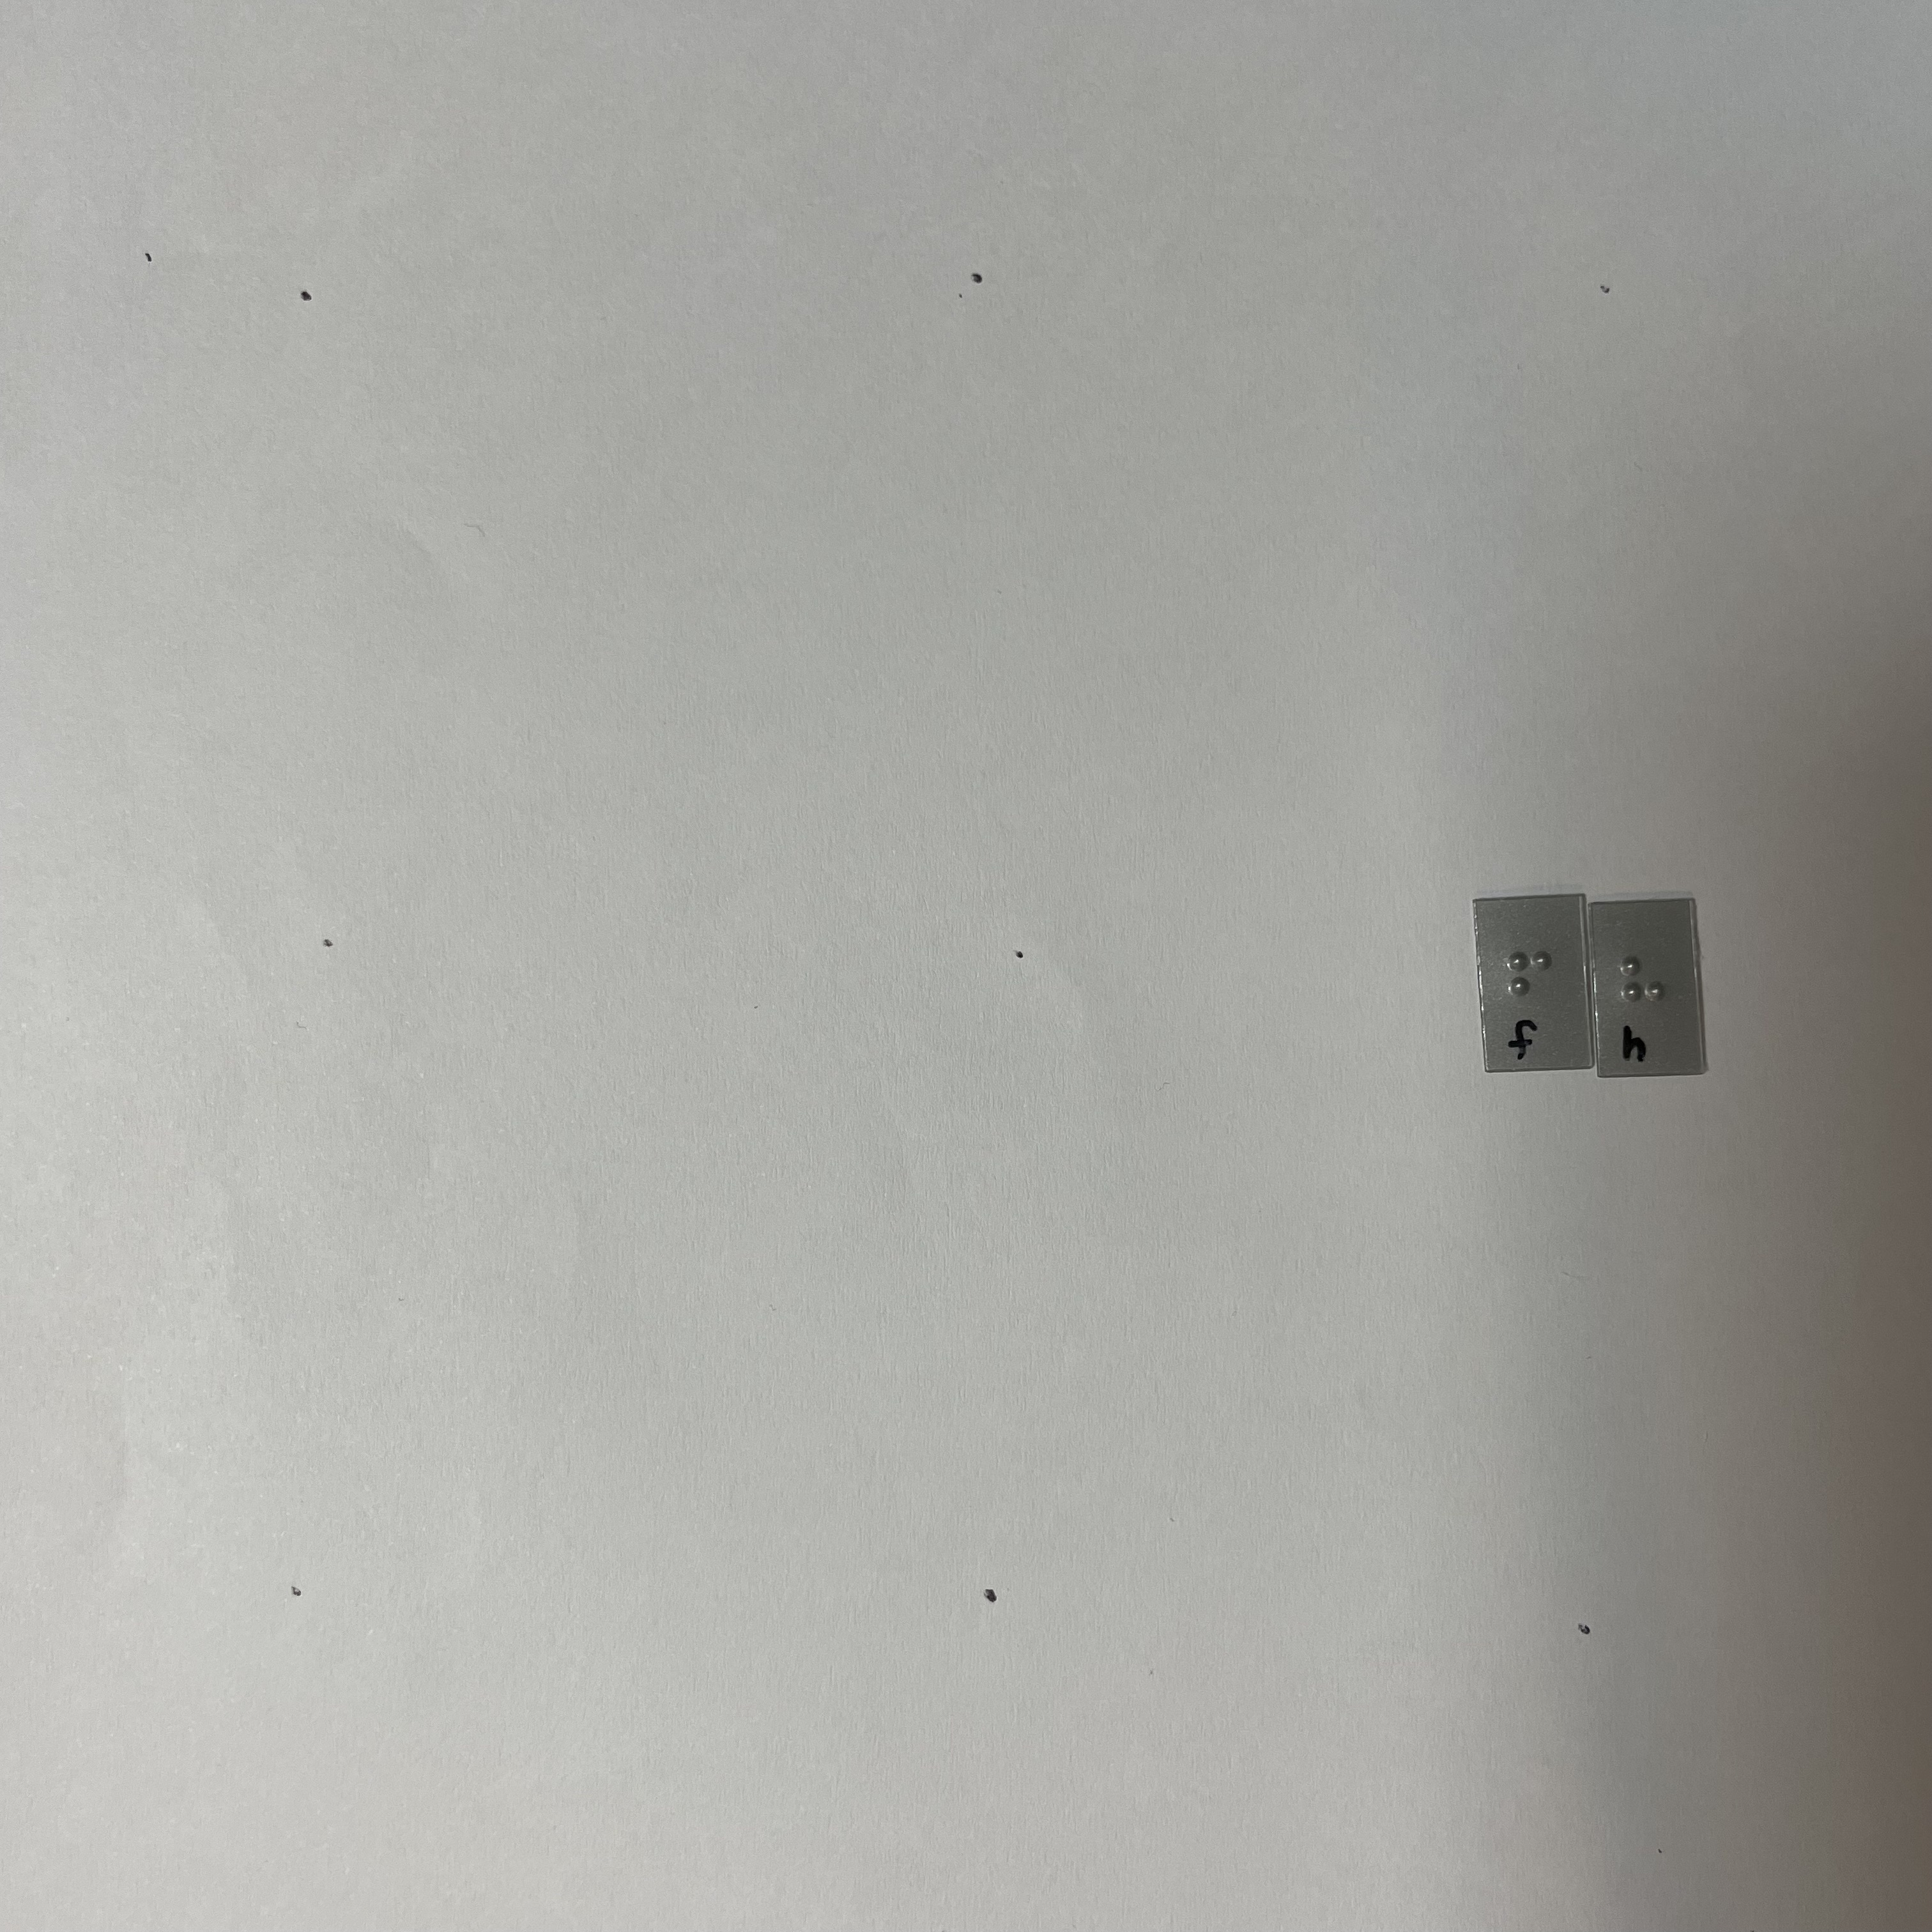f: (1503, 939, 1558, 1013)
h: (1618, 940, 1670, 1029)
